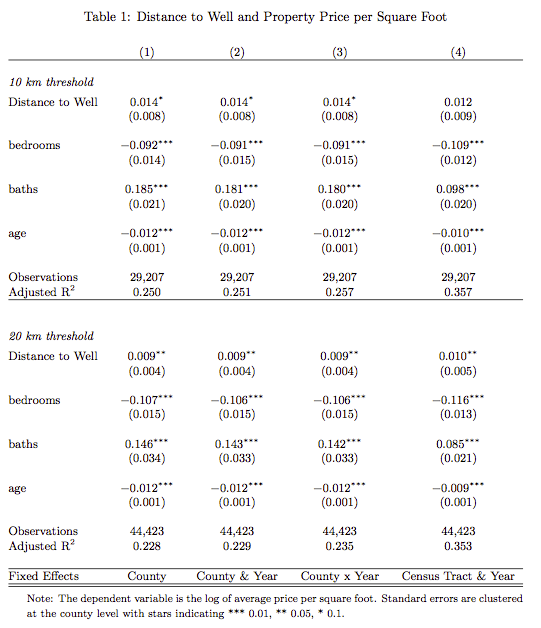fracking table: (2, 4, 527, 588)
